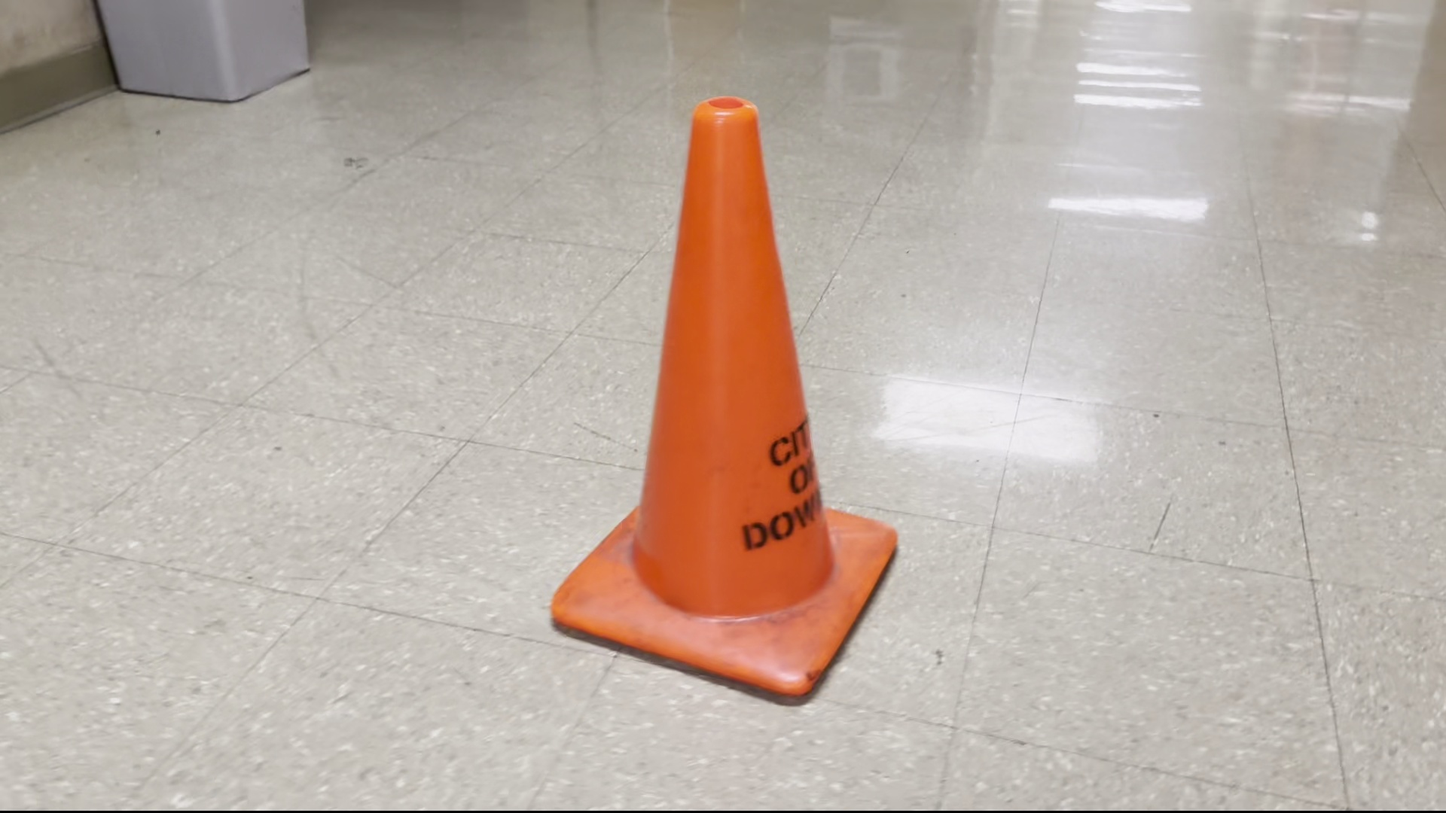traffic_cone: (549, 94, 899, 700)
